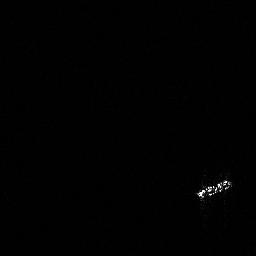ship: (197, 179, 231, 198)
